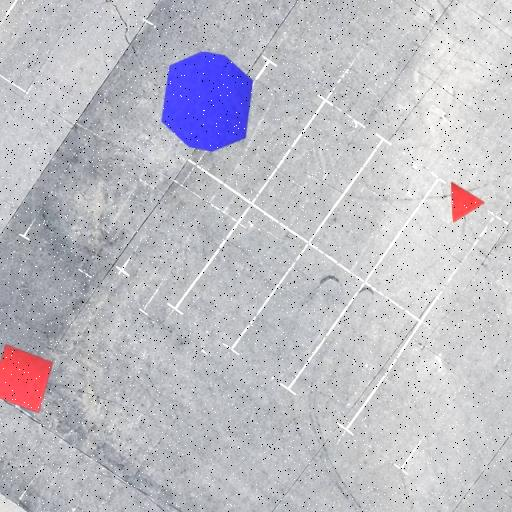RED_SQUARE: (0, 344, 54, 414)
